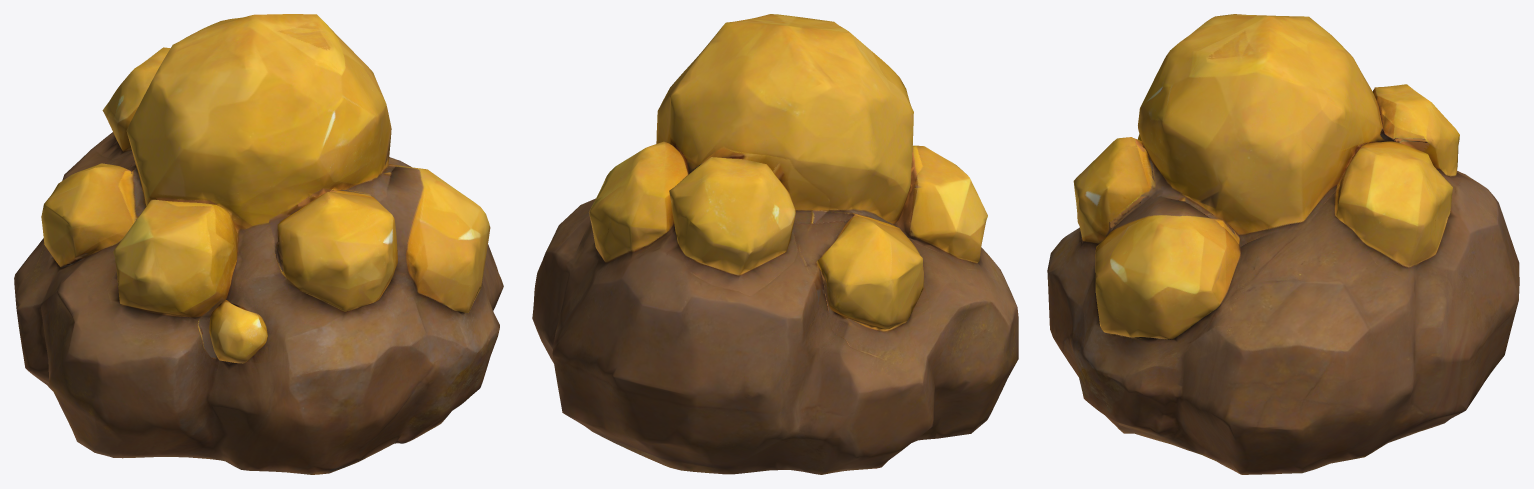
File: gold_ore.glb
The picture shows the model from 3 angles, left to right: view 1: azimuth 30°, elevation 25°; view 2: azimuth 150°, elevation 25°; view 3: azimuth 270°, elevation 25°; orthographic projection. The views are drawn at different scales.
Bounding box in the file's own units: 2 × 1.65 × 1.93.
Materials: 1 (1 with a texture image).
